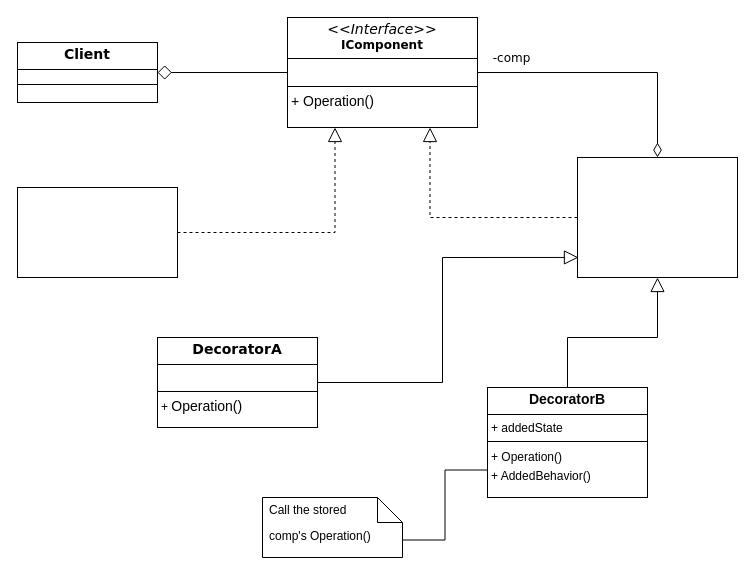
Image size: 755x575. Some labels were removed from this diagram. Here are the shapes that lost their labels. From the top down, the centre of each, then its label:
At (97,232): "Component + Operation()".
At (657,217): "Decorator - addedState + Operation() + AddedBehavior()".
